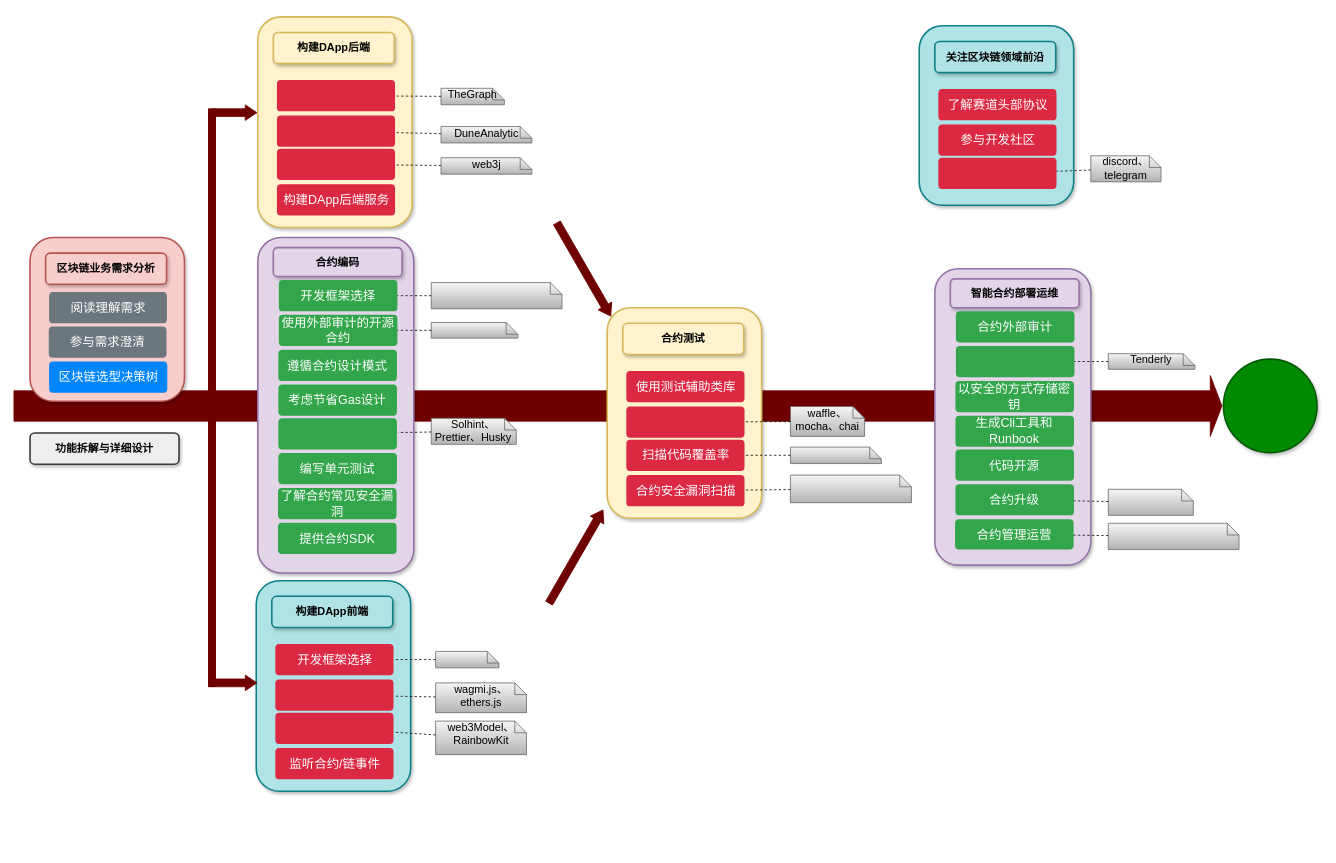
This 1336x863 diagram has some shape labels left out. The shapes that lost their labels are listed below. From the top down, each one's centre as x and y in pixels, then its label:
(336,95): 使用索引服务
(336,130): 使用分析服务
(336,164): 监听合约事件
(997,173): 订阅新闻通讯
(496,295): Hardhat、Truffle、Foundry、Brownie
(474,330): OpenZeppelin
(1015,361): 设置事件监控
(685,421): 编写集成测试脚本
(1270,407): 智能合约开发最佳实践流程
(337,433): 使用静态代码扫描工具
(835,455): solidity-coverage
(850,488): Slither、Manticore、Echidna
(1150,502): TRANSPARENT、UUPS、Beacon
(1173,536): Gnosis Safe、OpenZeppelin Defender
(467,659): Next.js
(334,694): 创建交互请求
(334,727): 连接钱包插件
